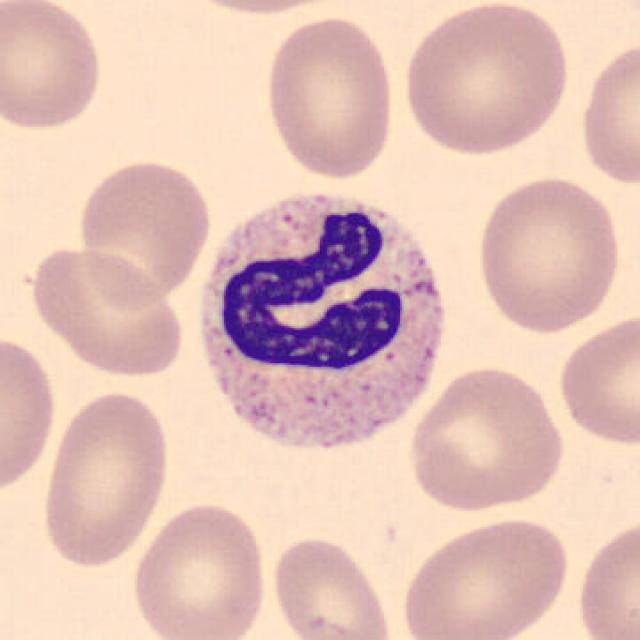Neutrophil: (185, 175, 460, 469)
RBC: (396, 0, 574, 157), (403, 361, 569, 515), (471, 171, 624, 337), (38, 386, 174, 571), (260, 10, 400, 184), (396, 513, 574, 640), (23, 245, 189, 379), (73, 155, 213, 307), (128, 497, 270, 640), (0, 0, 107, 134), (267, 532, 398, 640), (555, 310, 638, 450), (0, 327, 60, 497), (574, 35, 640, 189), (572, 513, 638, 640), (167, 0, 357, 18)
